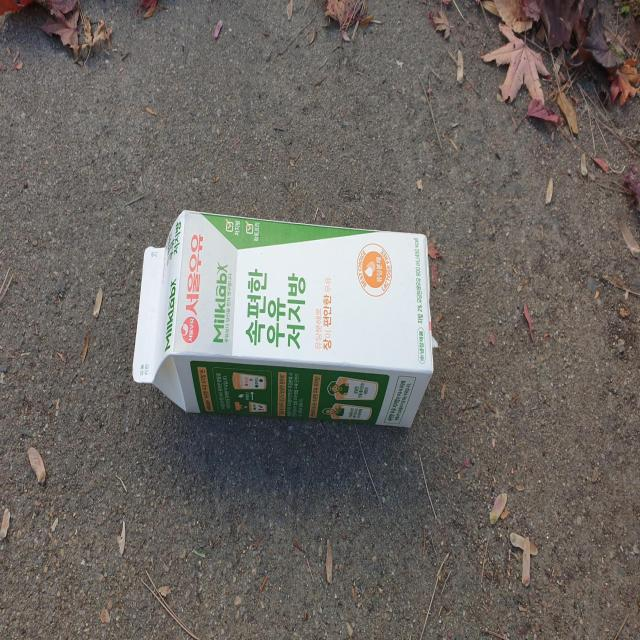paperpack: (132, 210, 434, 427)
